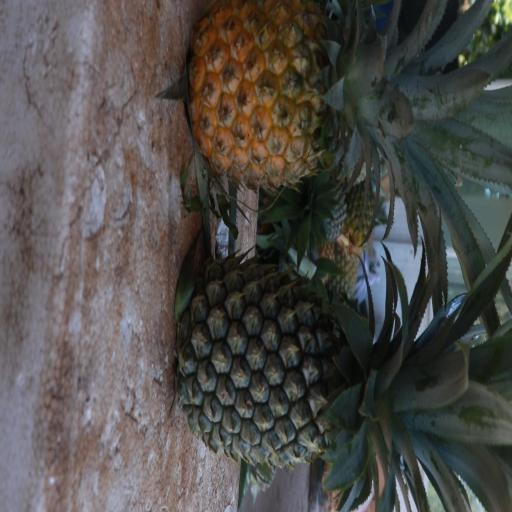Pineapple - v8 v1: (188, 2, 477, 184)
